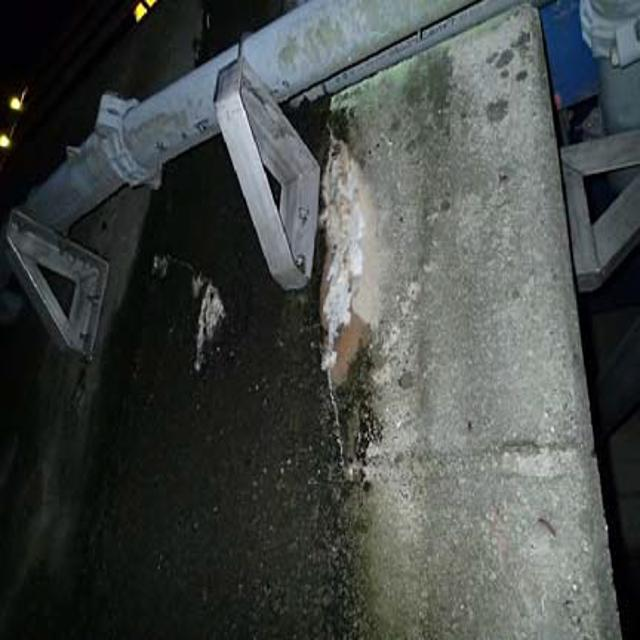freelime: (314, 138, 379, 358)
leakage: (143, 153, 303, 640)
